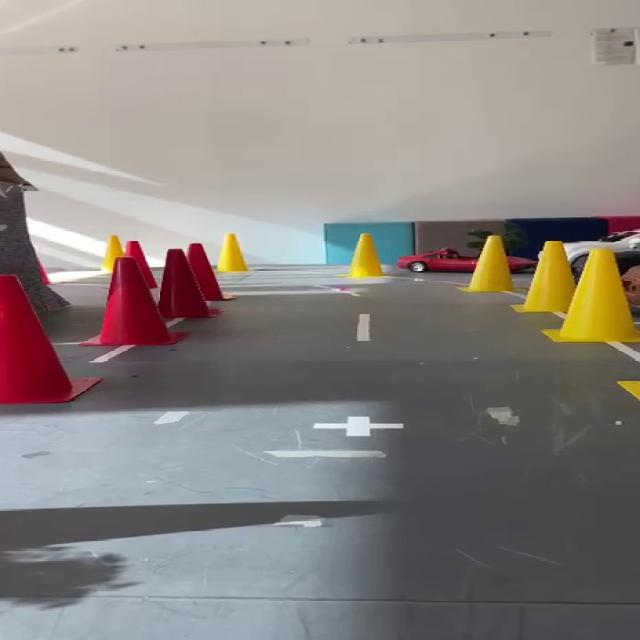Cone-red: (0, 275, 99, 405), (81, 256, 185, 346), (159, 248, 218, 319), (188, 243, 229, 298), (126, 241, 157, 297)
Cones-yellow: (542, 249, 639, 342), (520, 241, 574, 312), (466, 235, 512, 291), (349, 233, 382, 278), (217, 233, 247, 271), (618, 380, 639, 400)
